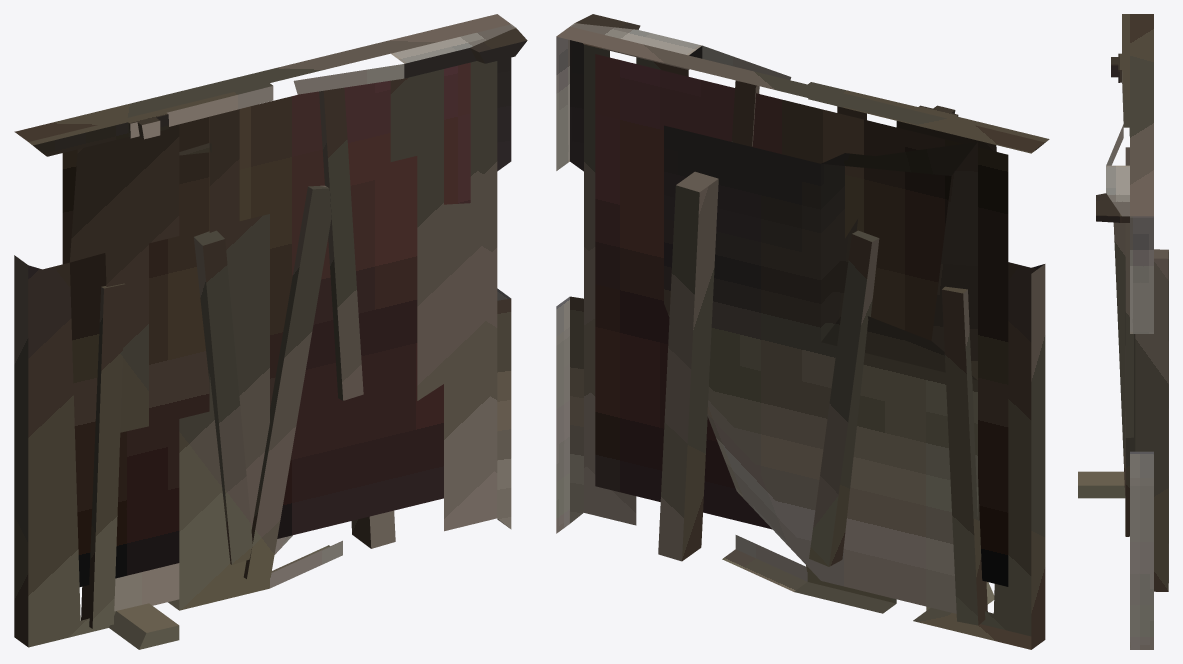
Rendered from 058_floor_wood.gltf.
The picture shows the model from 3 angles, left to right: view 1: azimuth 30°, elevation 25°; view 2: azimuth 150°, elevation 25°; view 3: azimuth 270°, elevation 25°; orthographic projection. The views are drawn at different scales.
Parts seen in each view (by area): view 1: floor_wood; view 2: floor_wood; view 3: floor_wood.
Part boxes in pixels (x1,y1,x2,y2): floor_wood: (14, 14, 527, 649); floor_wood: (556, 14, 1049, 649); floor_wood: (1078, 14, 1168, 649).
Bounding box in the file's own units: 2 × 2 × 0.3793.
Materials: 1 (1 with a texture image).
